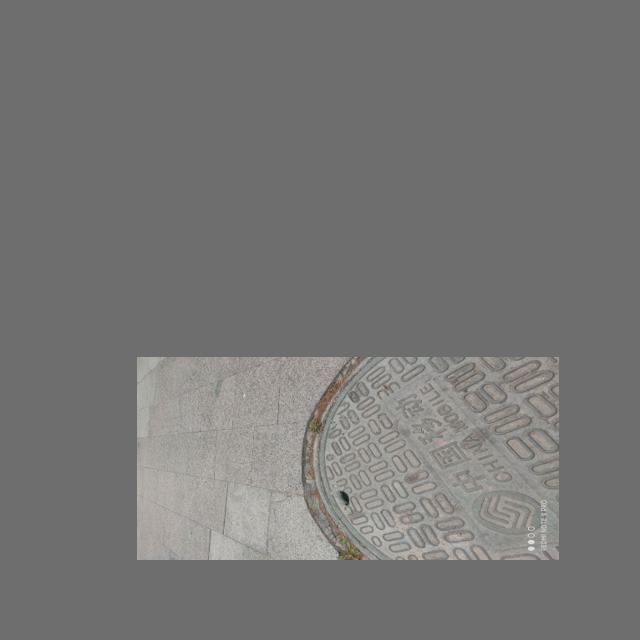good: (303, 357, 559, 560)
